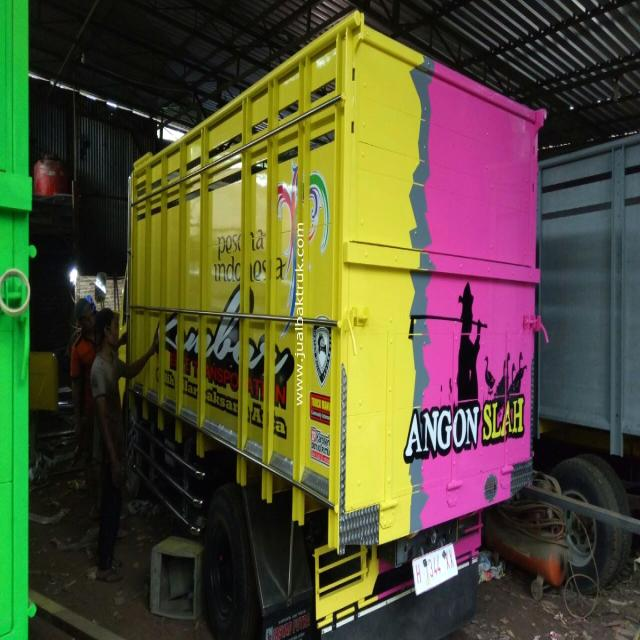truck: (116, 19, 548, 640)
